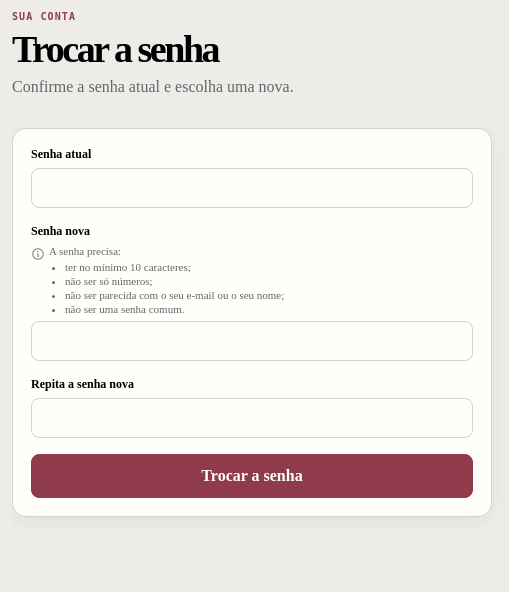
Test: o pedido e os erros (RF-08) › csrf_failed → a frase dele, a mensagem da API fora, o foco no botão
The width and height of the screenshot is (509, 592).
Type "senha-atual-1" into the password field labelled "Senha atual" at (252, 188), box [31,168,473,208]
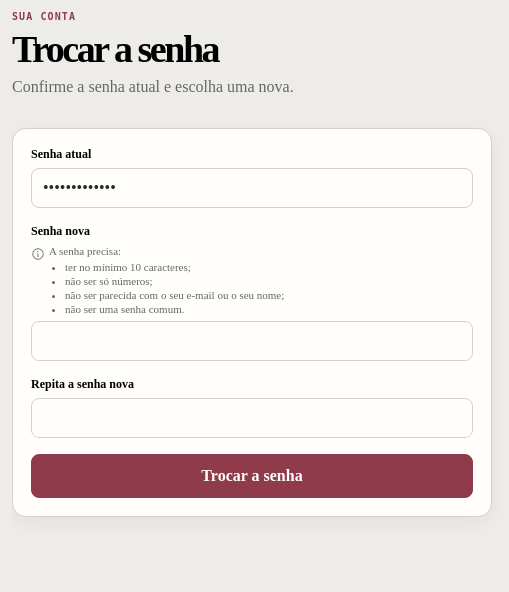
Type "nova-senha-longa-9" into the password field labelled "Senha nova" at (252, 341), box [31,321,473,361]
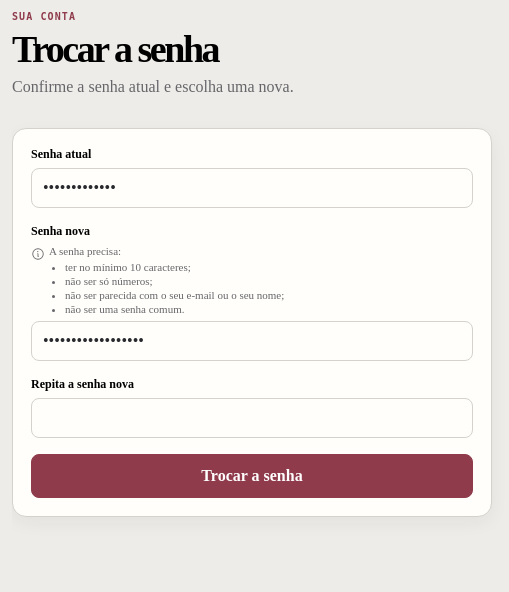
Type "nova-senha-longa-9" into the password field labelled "Repita a senha nova" at (252, 418), box [31,398,473,438]
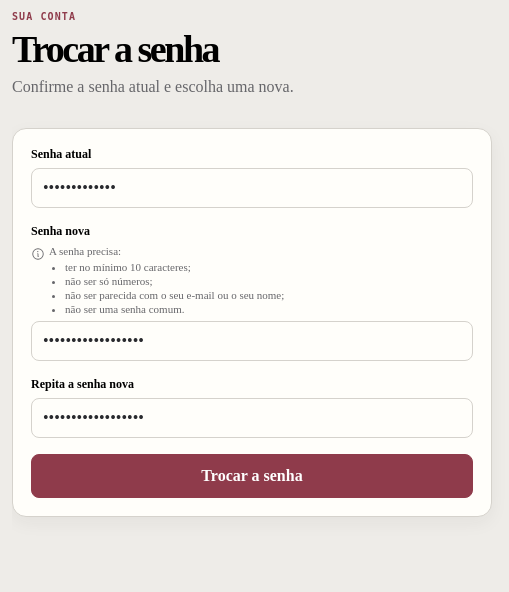
Click the button "Trocar a senha" at (252, 476), box [31,454,473,498]
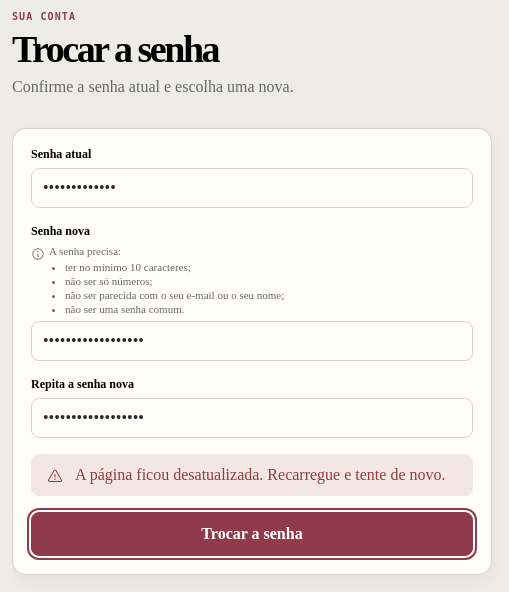
Expected: the message reads "A página ficou desatualizada. Recarregue e tente de novo.", [75,466,446,483]
